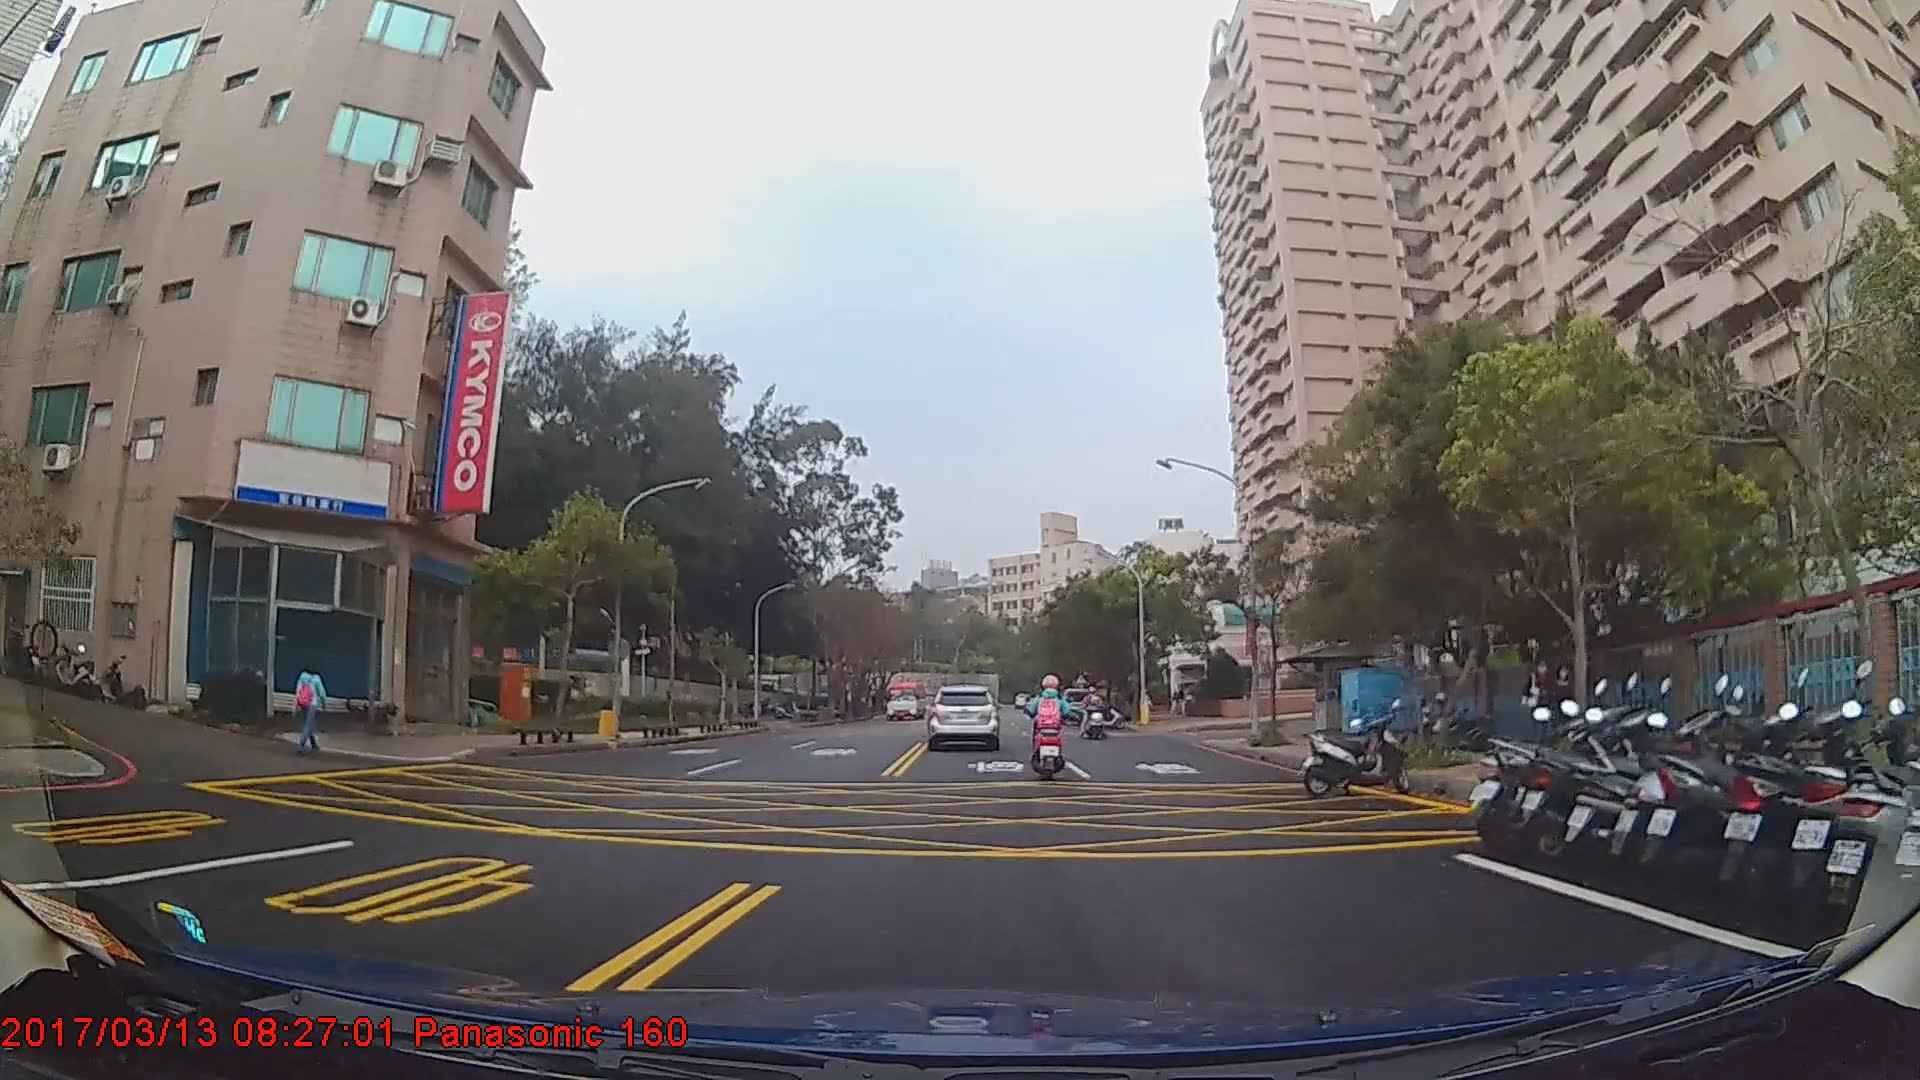pedestrian: (1516, 655, 1557, 755), (296, 654, 328, 757), (1545, 664, 1577, 751)
rider: (1026, 674, 1071, 784), (1080, 686, 1107, 738)
vehicle: (925, 683, 998, 748), (881, 678, 927, 719)
